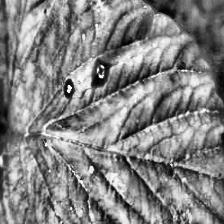Leaf Spot: (1, 0, 224, 224)
